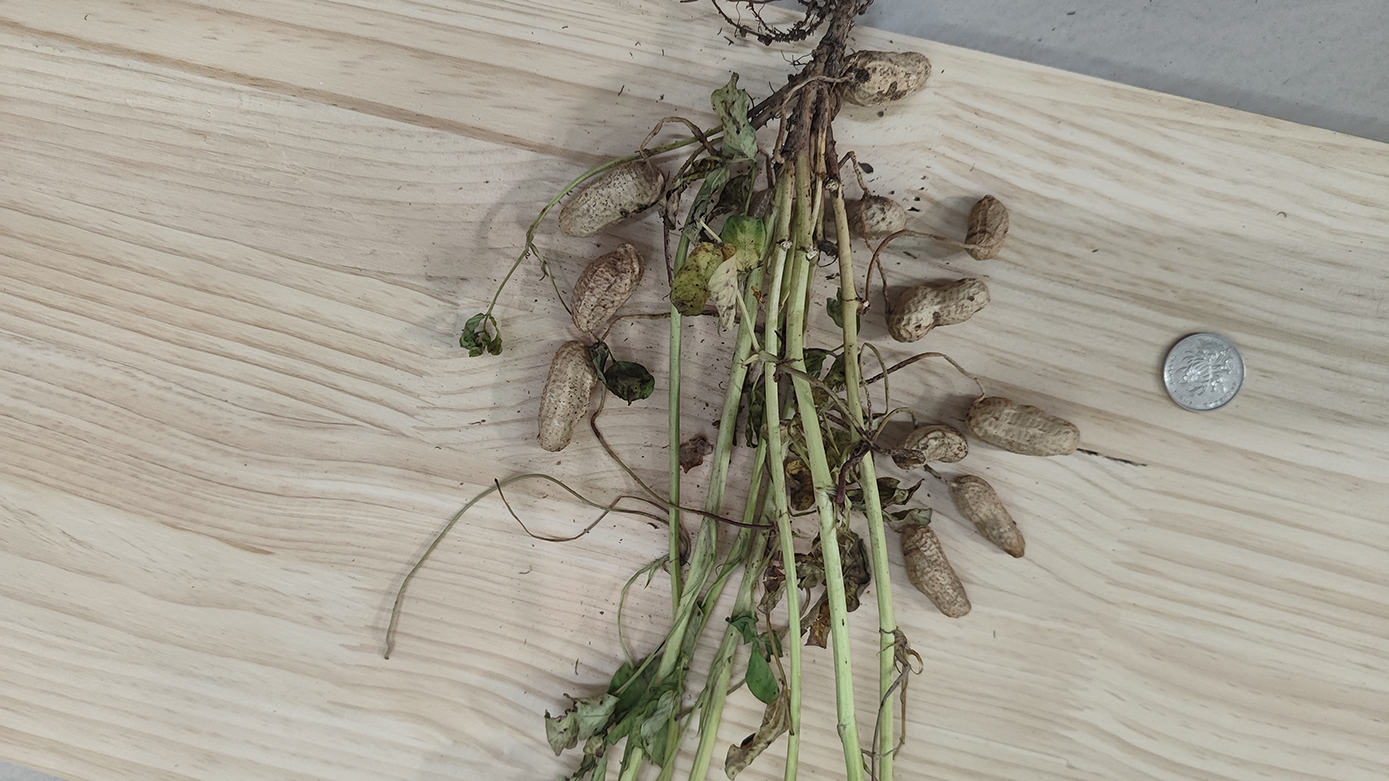h: (558, 162, 664, 236), (967, 389, 1082, 455), (901, 519, 973, 618), (887, 279, 992, 341), (536, 342, 595, 450), (951, 473, 1026, 557), (570, 244, 642, 329), (838, 51, 931, 108), (897, 420, 968, 468), (965, 195, 1011, 260), (848, 195, 906, 237)
